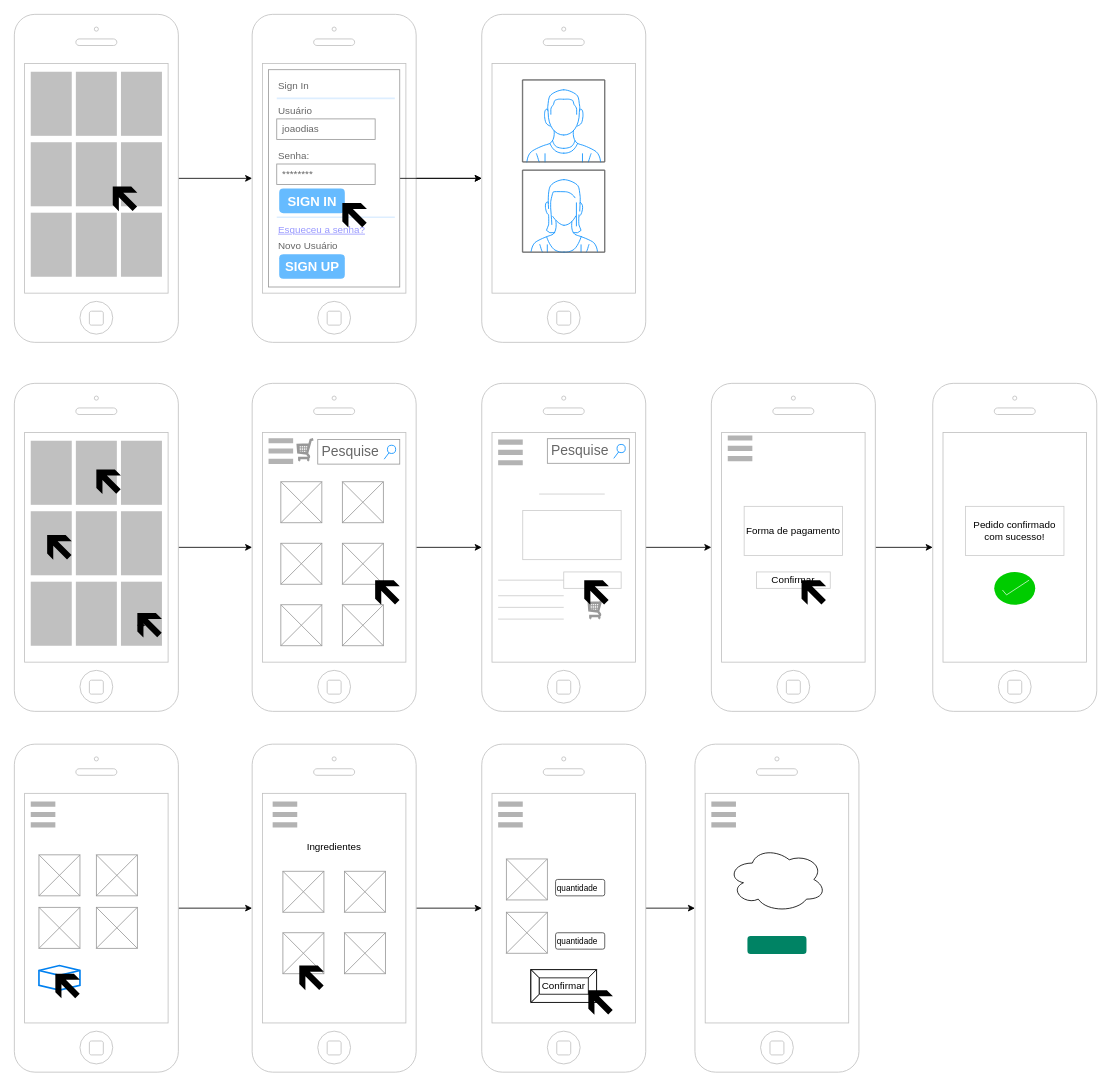
Image size: 1111x1087. Some labels were removed from this diagram. Here are the shapes that lost their labels. From the top down, the centre of each, then its label:
At point (776, 879): "Quantidades alteradas com sucesso!".
At point (776, 945): "SUCCESS".
